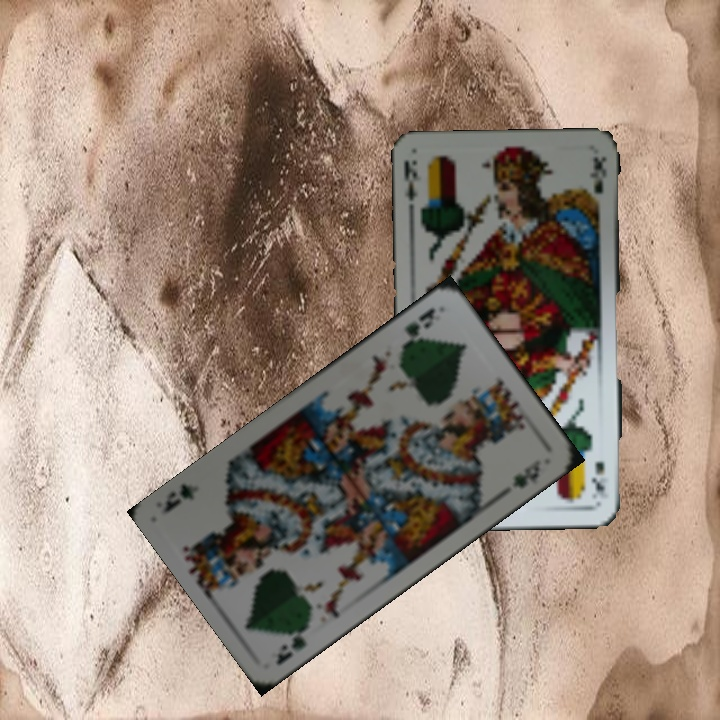EK: (399, 156, 423, 203), (590, 457, 610, 497)
GK: (272, 618, 313, 668), (400, 303, 438, 340)
